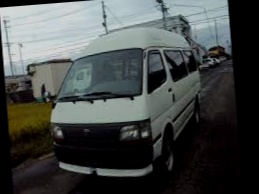van: (39, 25, 207, 184)
